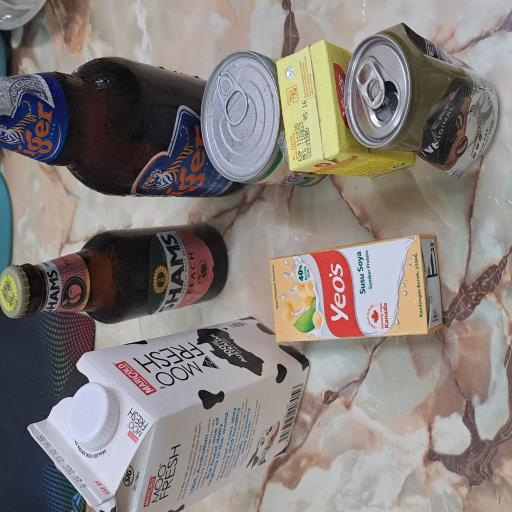can: (245, 268, 348, 427), (249, 458, 367, 512)
drink carton: (0, 36, 143, 414), (256, 366, 353, 512), (128, 359, 209, 512)
glass bottle: (237, 0, 340, 322), (139, 0, 216, 302)
plastic bottle cap: (44, 91, 98, 162)
pop tab: (292, 287, 329, 330), (302, 473, 341, 512)
